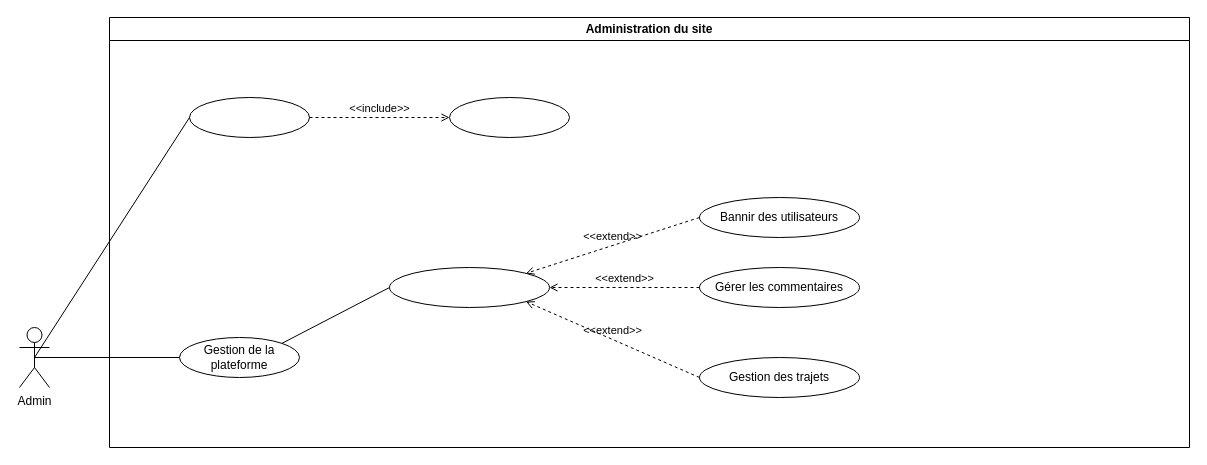
Image size: 1207x465. Some labels were removed from this diagram. Each missing label, with the centre of its shape:
"Authentification" belongs at (x=509, y=117).
"Connexion" belongs at (x=249, y=117).
"Modération" belongs at (x=469, y=287).
